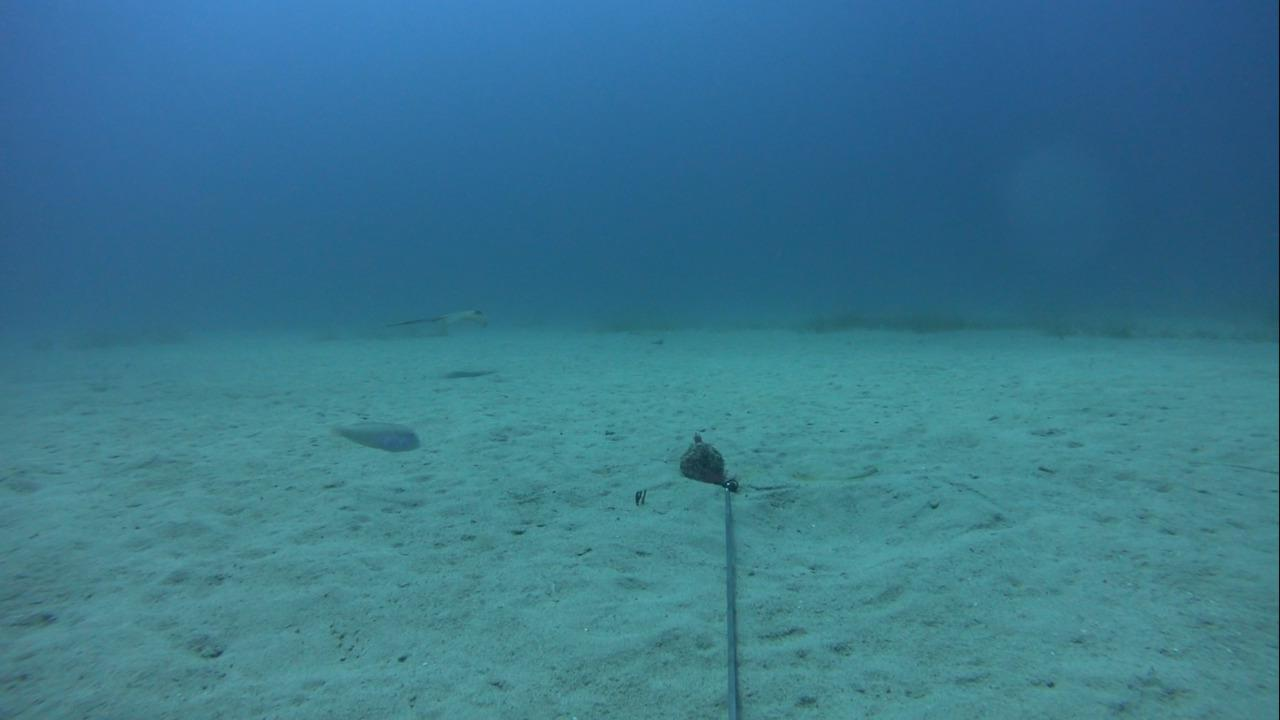myliobatis: (358, 300, 496, 348)
raor: (323, 416, 423, 460)
